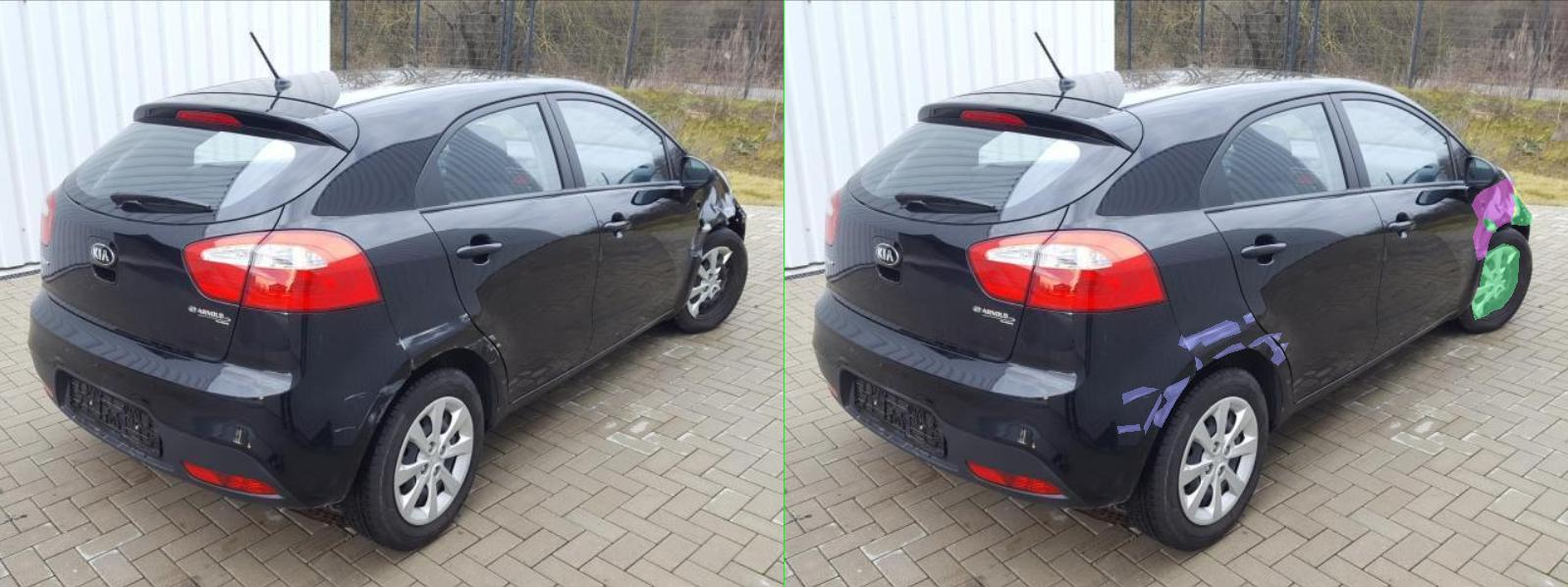Broken part: (1375, 243, 1470, 319), (1454, 194, 1495, 225), (1397, 218, 1425, 232)
Cracked: (1458, 186, 1489, 220)
Dent: (1375, 178, 1472, 260)
Paint chip: (1403, 222, 1428, 235)
Scratch: (739, 376, 810, 427), (800, 320, 912, 350), (927, 334, 1002, 365), (719, 394, 753, 434), (676, 387, 747, 403), (857, 343, 922, 358), (666, 424, 711, 433), (788, 335, 810, 347), (918, 312, 941, 323), (821, 356, 835, 370), (971, 333, 994, 341), (992, 343, 1008, 350)
